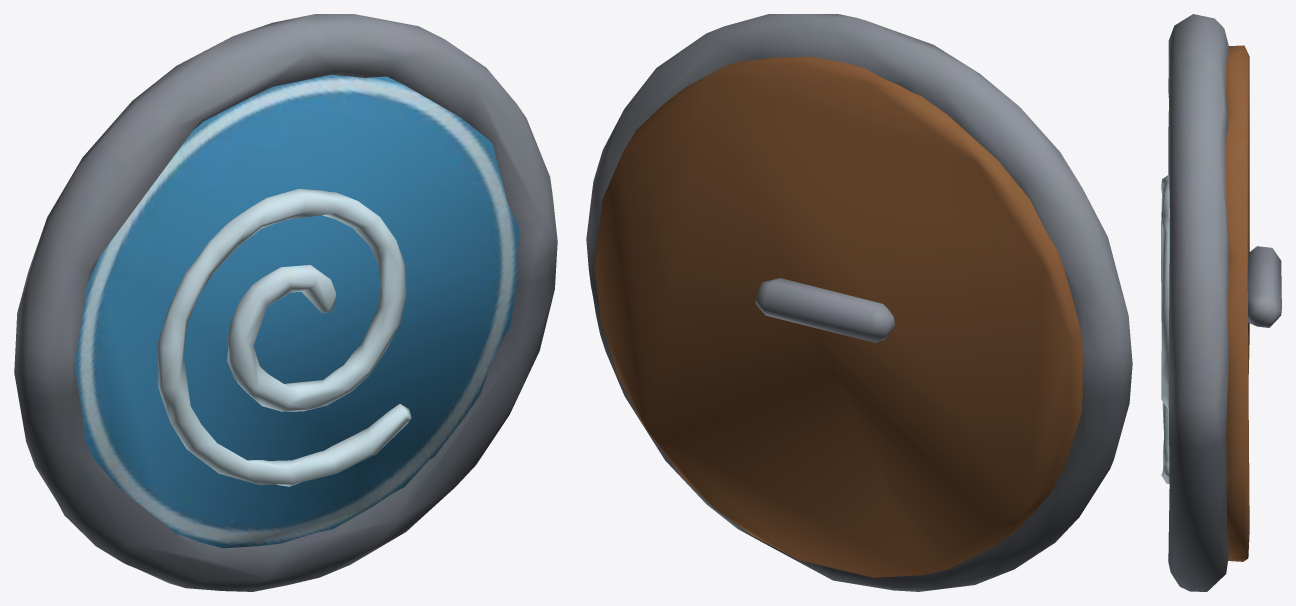
The model's file is shield-maiden-shield.glb.
3 renders of one model, left to right at view 1: azimuth 30°, elevation 25°; view 2: azimuth 150°, elevation 25°; view 3: azimuth 270°, elevation 25°, orthographic. The views are drawn at different scales.
Parts seen in each view (by area): view 1: shield; view 2: shield; view 3: shield.
Boxes of the visible parts, left/top/right/bottom form: shield: left=14, top=14, right=557, bottom=591; shield: left=586, top=14, right=1132, bottom=591; shield: left=1161, top=14, right=1281, bottom=591.
Bounding box in the file's own units: 0.3251 × 0.3254 × 0.068.
1 material, 1 textured.
